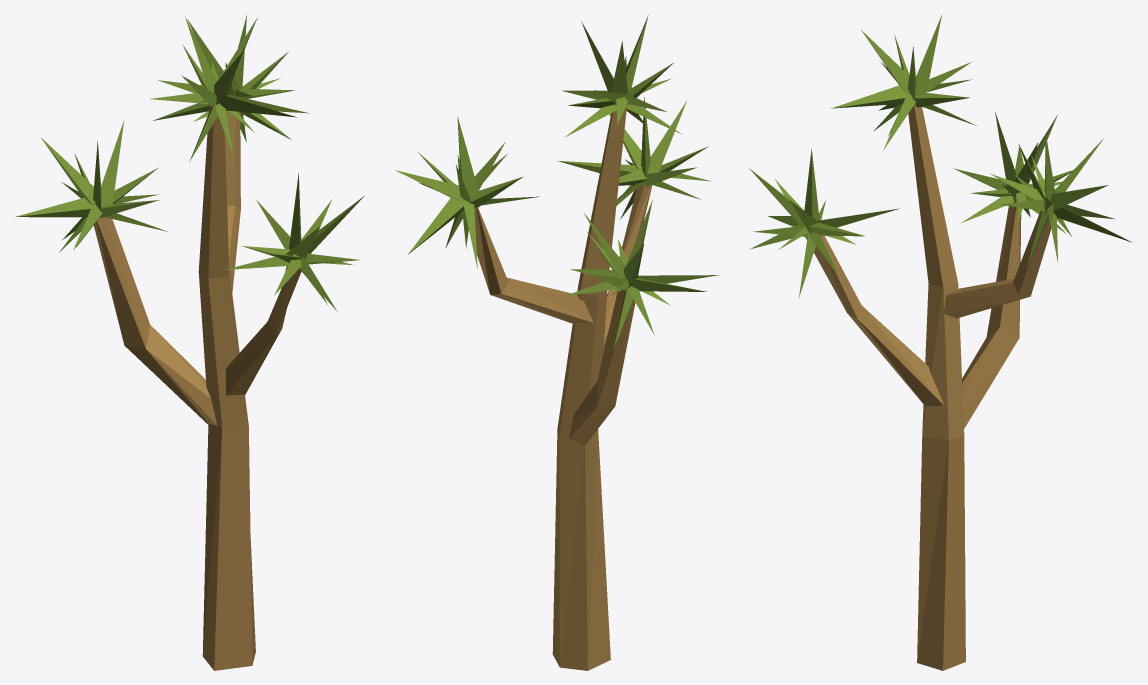
Rendered from west_tree01.FBX.
3 renders of one model, left to right at view 1: azimuth 30°, elevation 25°; view 2: azimuth 150°, elevation 25°; view 3: azimuth 270°, elevation 25°, orthographic. The views are drawn at different scales.
Visible parts, largest first — view 1: west_tree01; view 2: west_tree01; view 3: west_tree01.
Part boxes in pixels (x1=…): west_tree01: x1=15, y1=15, x2=364, y2=670; west_tree01: x1=395, y1=15, x2=718, y2=670; west_tree01: x1=749, y1=15, x2=1131, y2=670.
Bounding box in the file's own units: 2033 × 4399 × 2462.
